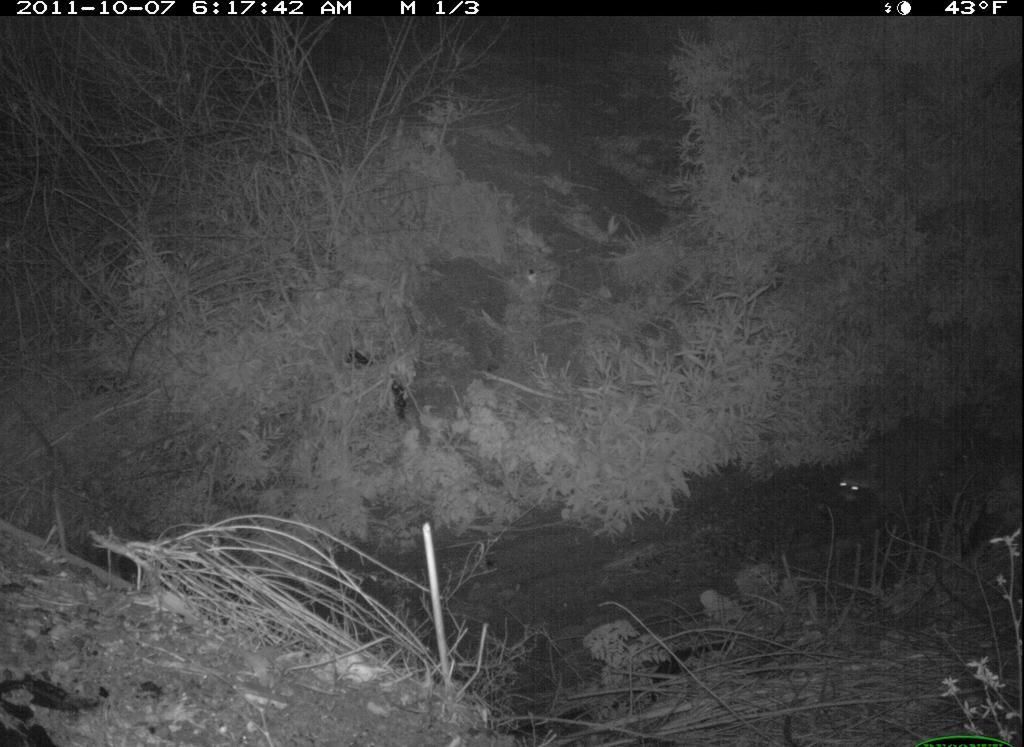raccoon: (833, 415, 975, 545)
